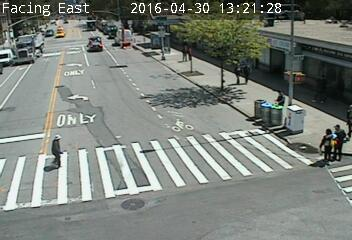neg: (288, 14, 313, 48), (137, 20, 161, 52), (311, 18, 332, 46), (109, 28, 128, 54), (266, 19, 285, 45), (15, 46, 32, 69), (66, 37, 81, 58), (128, 32, 143, 52), (90, 30, 104, 49), (334, 24, 348, 43), (201, 17, 215, 35), (255, 15, 269, 33), (232, 34, 246, 52), (187, 50, 199, 66), (183, 28, 193, 41)
pos: (304, 118, 335, 160), (269, 86, 293, 119), (46, 132, 69, 164), (333, 123, 351, 159), (226, 59, 244, 84), (241, 60, 258, 82), (175, 44, 187, 59)
